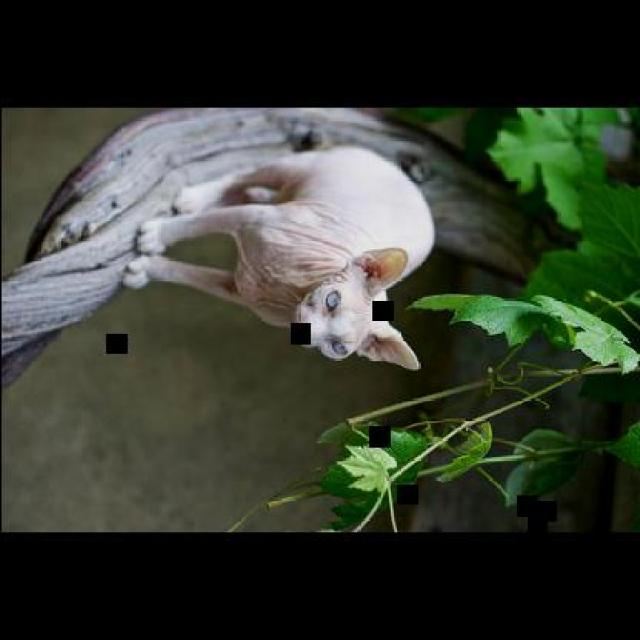unauthorized: (0, 106, 558, 389), (118, 143, 436, 371)
